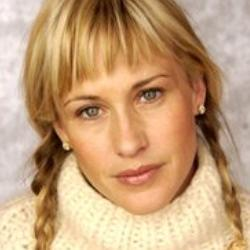face: (10, 1, 241, 224)
